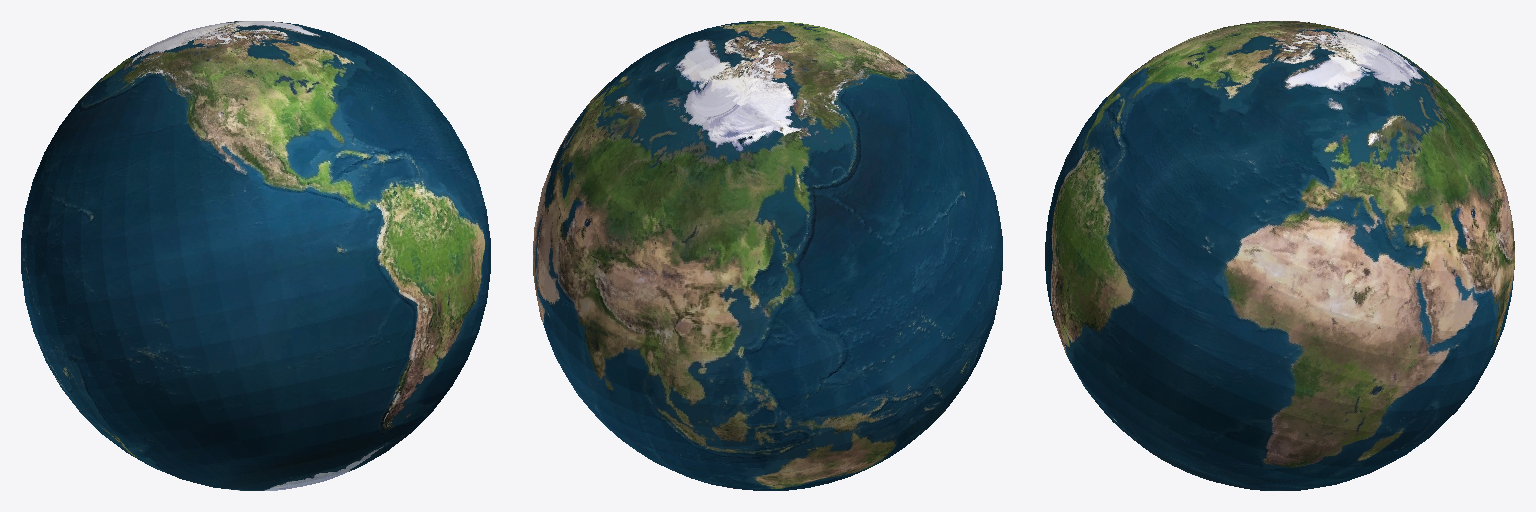
3 renders of one model, left to right at view 1: azimuth 30°, elevation 25°; view 2: azimuth 150°, elevation 25°; view 3: azimuth 270°, elevation 25°, orthographic.
Parts seen in each view (by area): view 1: Earth.001_ID84; view 2: Earth.001_ID84; view 3: Earth.001_ID84.
Part boxes in pixels (x1,y1,x2,y2): Earth.001_ID84: (21, 21, 490, 490); Earth.001_ID84: (533, 21, 1002, 490); Earth.001_ID84: (1045, 21, 1514, 490).
Bounding box in the file's own units: 1.27 × 1.27 × 1.27.
1 materials, 1 textured.